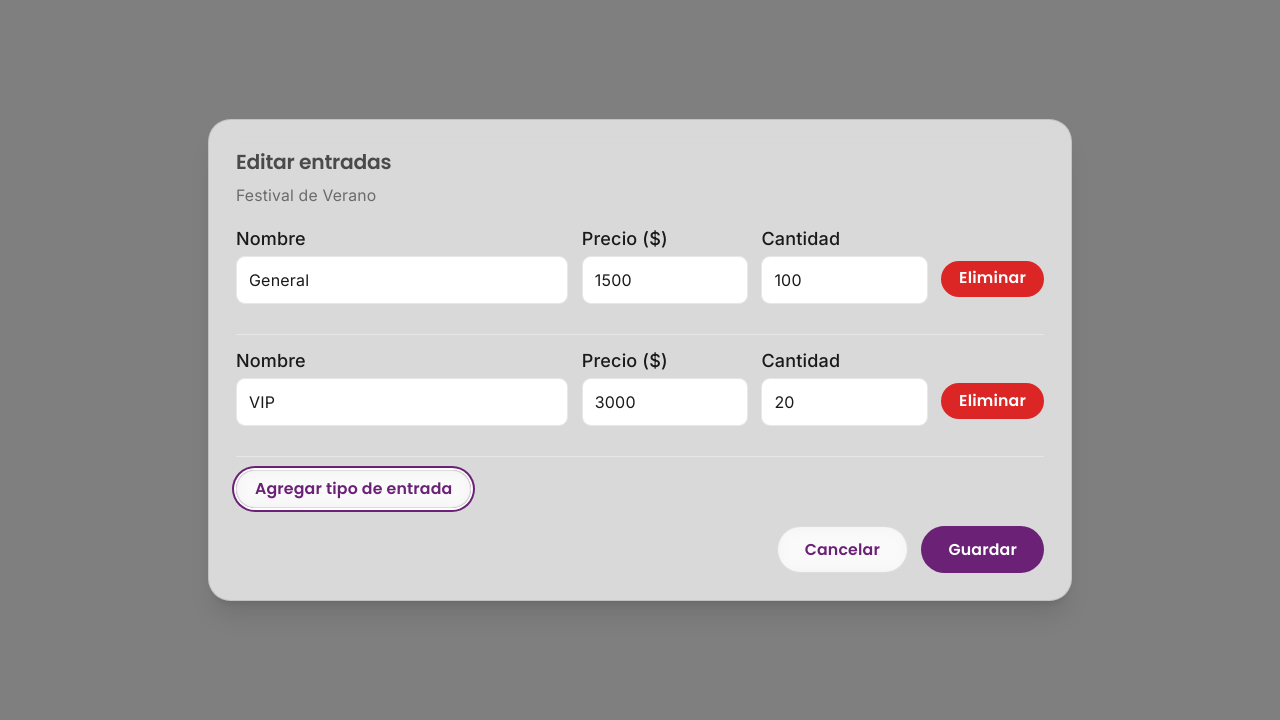
Test: EditTicketsModal › rejects a quantity above the per-type cap without calling the API
Replace the text in the number field named "Cantidad de la entrada 1" with "1001" at [844, 280], box [761, 256, 928, 304]
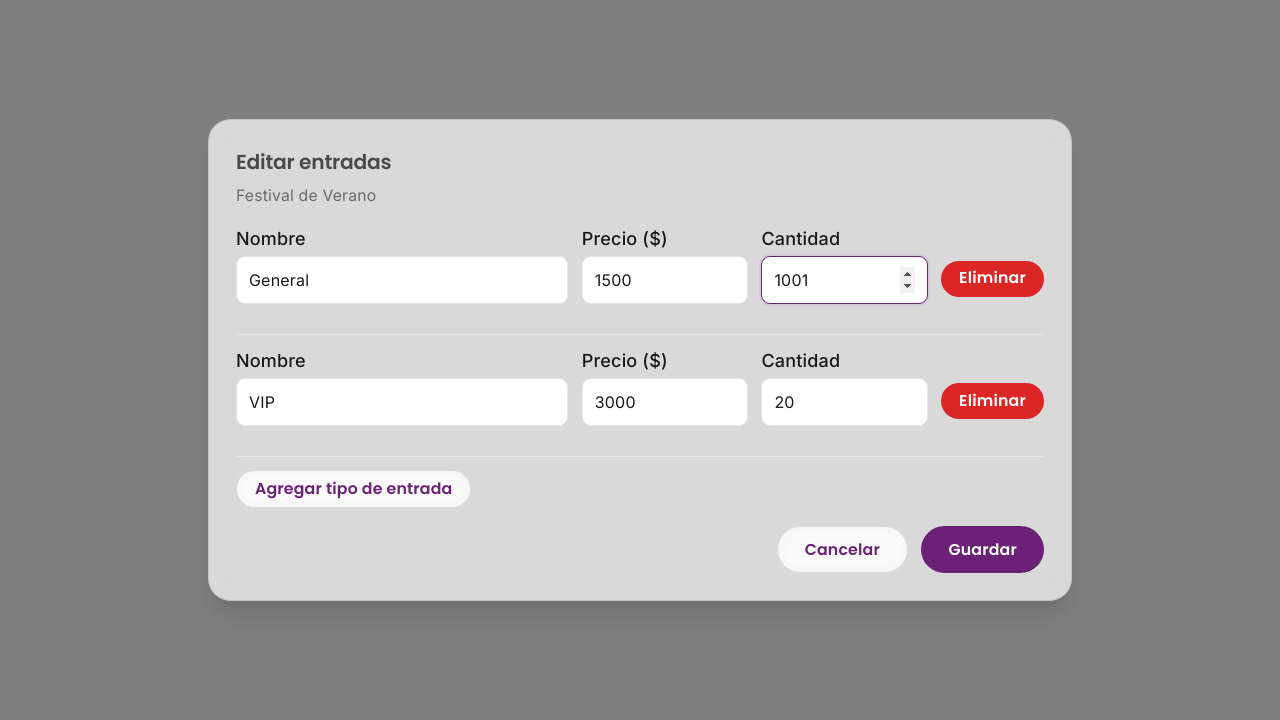
Click the button "Guardar" at [983, 550], box [922, 526, 1044, 574]
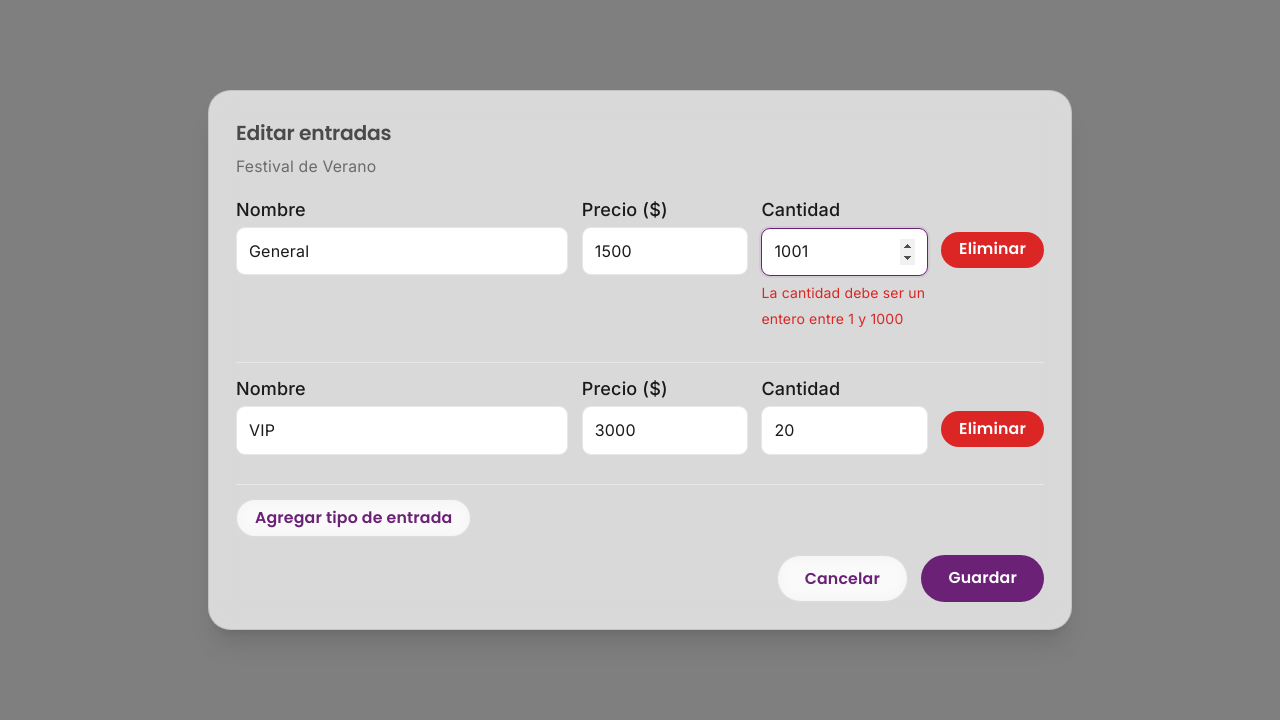
Expected: the message shows "cantidad", [761, 284, 925, 327]
